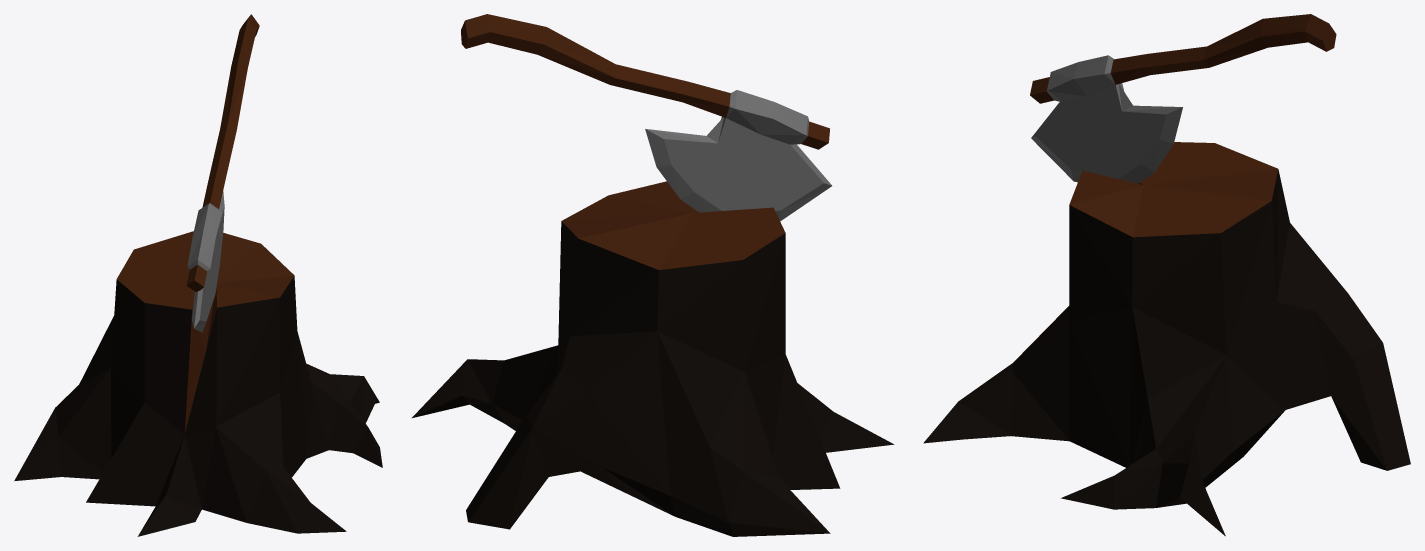
The model's file is Axe_wood_1.fbx.
3 renders of one model, left to right at view 1: azimuth 30°, elevation 25°; view 2: azimuth 150°, elevation 25°; view 3: azimuth 270°, elevation 25°, orthographic. The views are drawn at different scales.
Parts seen in each view (by area): view 1: Axe_wood_1; view 2: Axe_wood_1; view 3: Axe_wood_1.
Boxes of the visible parts, x1,y1,x2,y2 form: Axe_wood_1: (14,14,382,536); Axe_wood_1: (412,14,894,536); Axe_wood_1: (923,14,1410,536).
Bounding box in the file's own units: 161 × 165 × 157.
